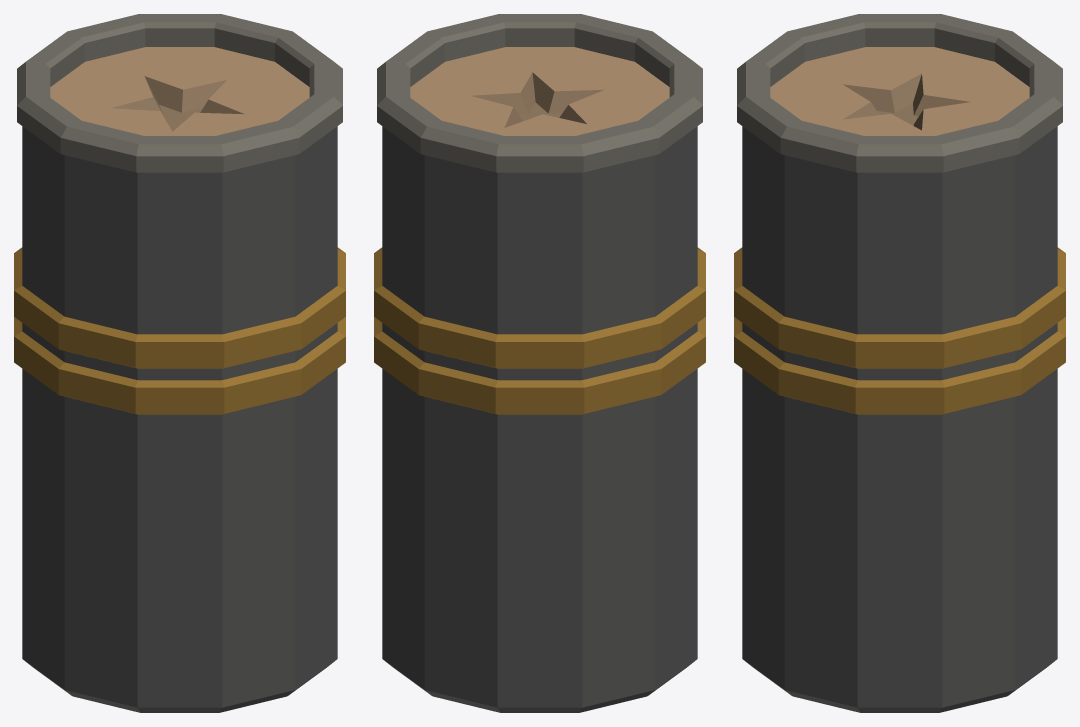
File: sand-urn-ashtray-13a71e.glb
The picture shows the model from 3 angles, left to right: view 1: azimuth 30°, elevation 25°; view 2: azimuth 150°, elevation 25°; view 3: azimuth 270°, elevation 25°; orthographic projection.
Parts seen in each view (by area): view 1: sand-urn; view 2: sand-urn; view 3: sand-urn.
Part boxes in pixels (x1,y1,x2,y2): sand-urn: [14, 14, 345, 712]; sand-urn: [374, 14, 705, 712]; sand-urn: [734, 14, 1065, 712].
Bounding box in the file's own units: 0.368 × 0.7 × 0.368.
